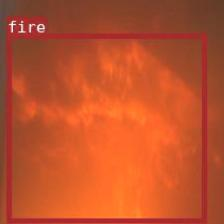fire: (7, 33, 205, 222)
